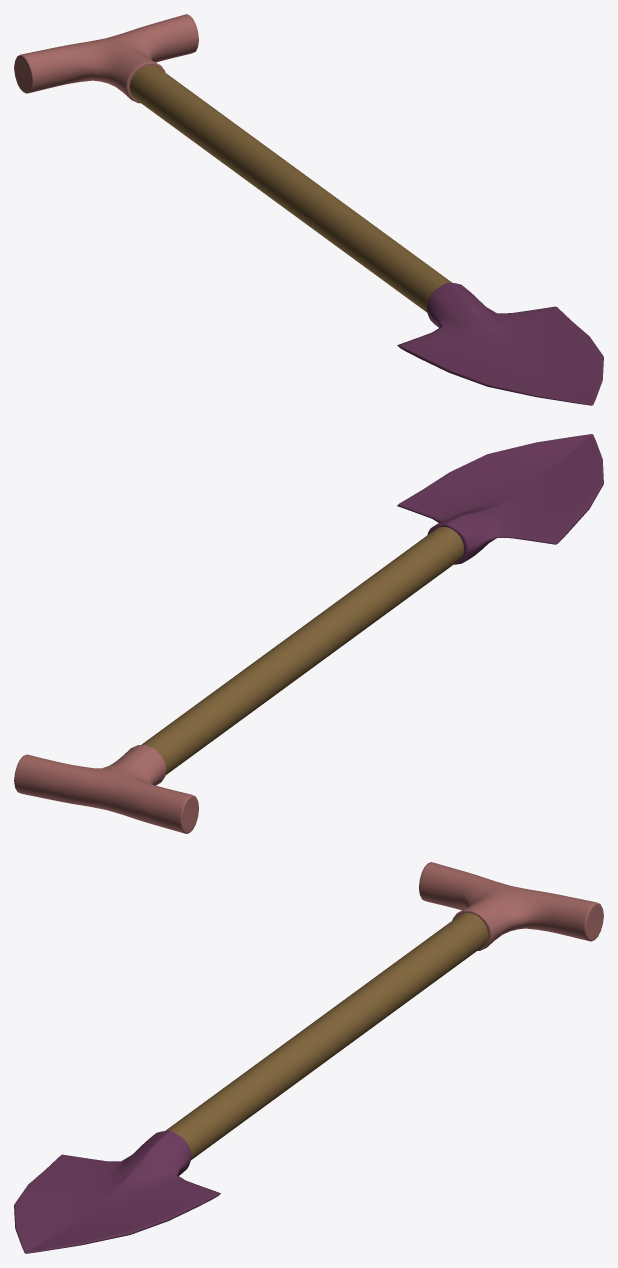
The model's file is Shovel_mesh.fbx.
3 views of the same model, one above another, from view 1: azimuth 30°, elevation 25°; view 2: azimuth 150°, elevation 25°; view 3: azimuth 330°, elevation 25° (orthographic).
Parts seen in each view (by area): view 1: Shovel_point, pCylinder1, polySurface7; view 2: Shovel_point, pCylinder1, polySurface7; view 3: Shovel_point, pCylinder1, polySurface7.
Boxes of the visible parts, x1=… form: Shovel_point: x1=397, y1=282, x2=603, y2=405; pCylinder1: x1=129, y1=65, x2=452, y2=312; polySurface7: x1=14, y1=14, x2=198, y2=103; Shovel_point: x1=397, y1=434, x2=603, y2=564; pCylinder1: x1=141, y1=527, x2=464, y2=775; polySurface7: x1=14, y1=745, x2=198, y2=833; Shovel_point: x1=14, y1=1130, x2=220, y2=1253; pCylinder1: x1=165, y1=912, x2=488, y2=1159; polySurface7: x1=419, y1=862, x2=603, y2=950.
Size of the model in its own units: 3.57 by 0.832 by 18.29.
